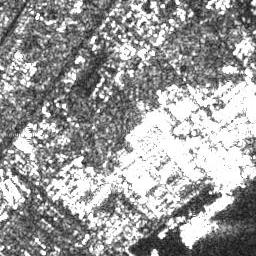ship: (181, 218, 218, 249)
